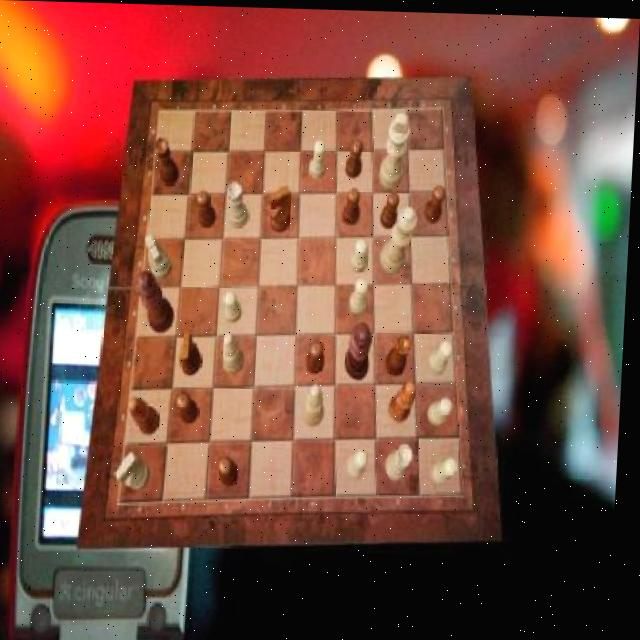bishop: (132, 396, 166, 435), (393, 381, 420, 421)
black-bishop: (348, 319, 376, 377)
black-king: (269, 183, 294, 230), (183, 332, 207, 375)
black-knight: (427, 182, 448, 221), (180, 391, 204, 424), (199, 189, 220, 226), (347, 137, 366, 176), (382, 189, 401, 227), (345, 187, 364, 223), (222, 455, 244, 486), (310, 338, 329, 372)
black-pawn: (137, 268, 181, 332)
black-queen: (156, 138, 184, 186), (390, 331, 416, 374)
black-rook: (225, 330, 250, 373), (308, 381, 330, 424)
white-bishop: (382, 111, 413, 189)
white-king: (118, 451, 156, 490), (146, 233, 177, 279)
white-knight: (433, 338, 457, 373), (436, 455, 464, 483), (351, 447, 374, 479), (432, 395, 458, 423), (352, 276, 371, 313), (312, 138, 329, 177), (226, 290, 246, 323), (353, 236, 371, 270)
white-pawn: (383, 203, 421, 271)
white-queen: (228, 181, 253, 228), (390, 440, 418, 478)
